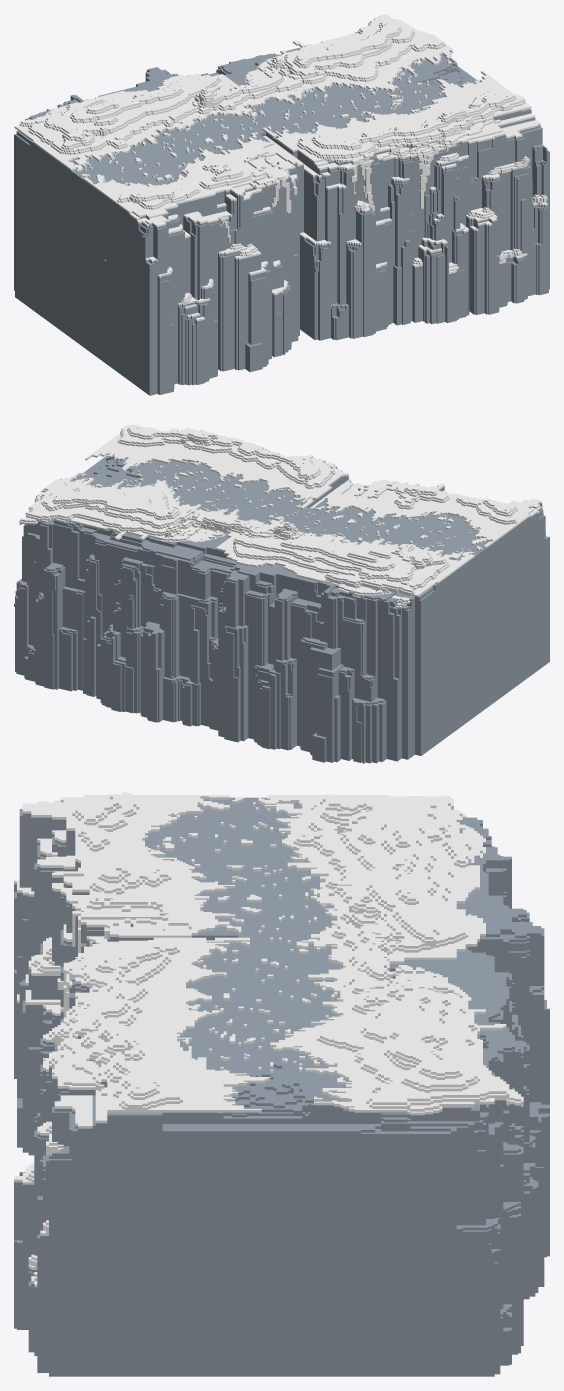
The model's file is factory4.1-29.obj.
3 renders of one model, top to bottom at view 1: azimuth 30°, elevation 25°; view 2: azimuth 150°, elevation 25°; view 3: azimuth 270°, elevation 25°, orthographic. The views are drawn at different scales.
Bounding box in the file's own units: 25.6 × 11.1 × 18.4.
1 material, 1 textured.
